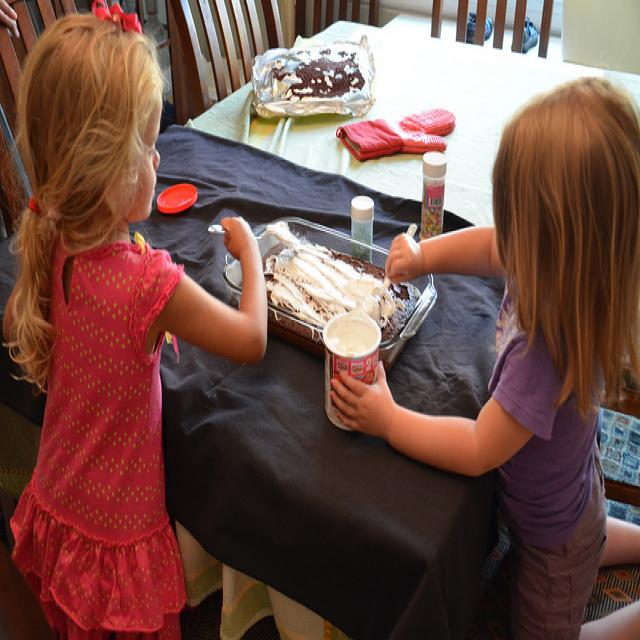chair: (0, 0, 79, 193), (170, 0, 283, 120), (429, 0, 556, 62), (297, 0, 382, 37)
dining table: (133, 118, 508, 639), (187, 20, 640, 223), (186, 118, 425, 202)
